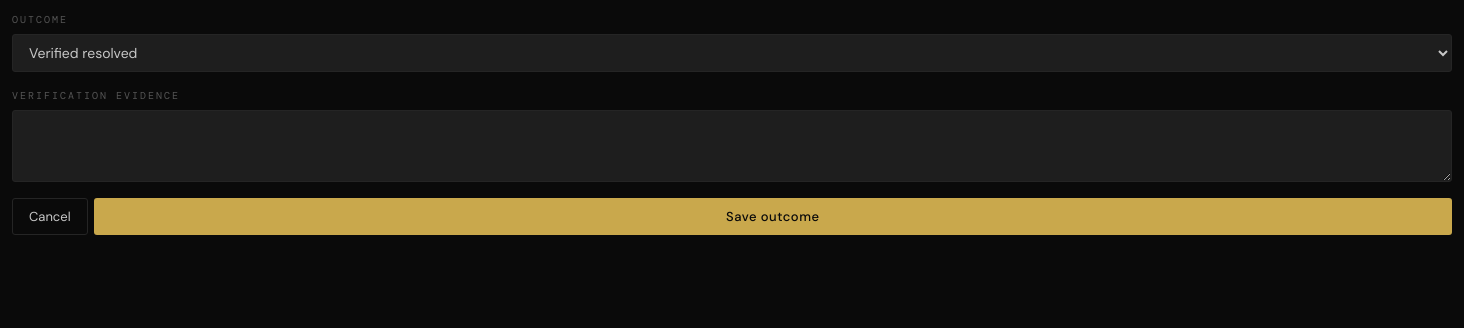
Test: FeedbackResolutionForm › shows canonical report selection only for duplicates
Select "Duplicate" in the dropdown named "outcome" at x=732, y=53, box [12,34,1452,72]
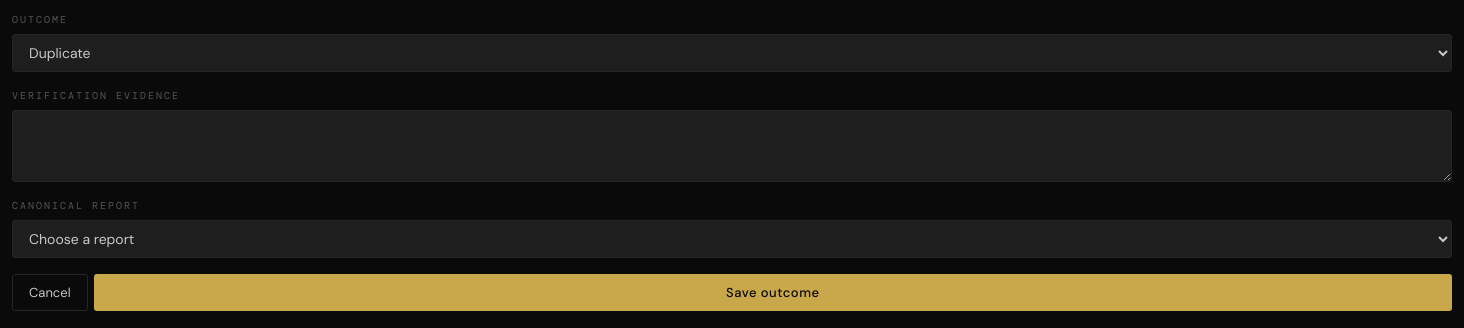
Check: the dropdown named "canonicalReportId" is shown, box [12,220,1452,258]
